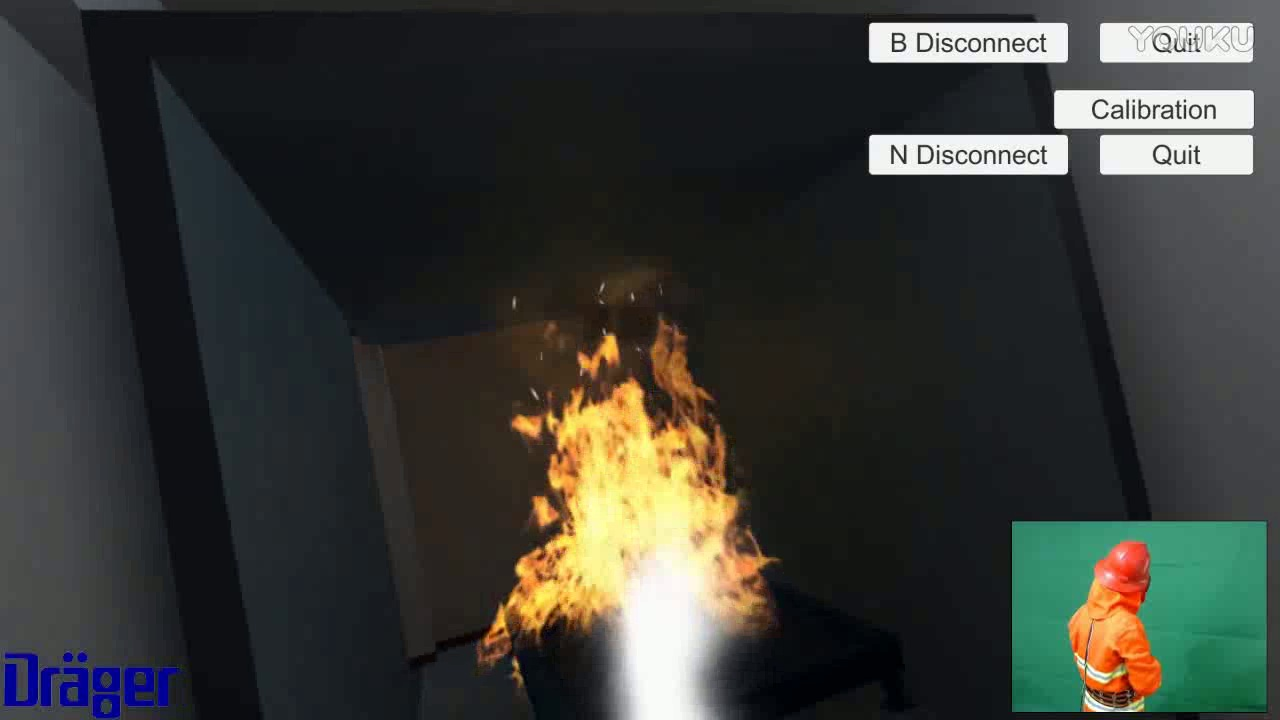fire: (487, 316, 783, 677)
